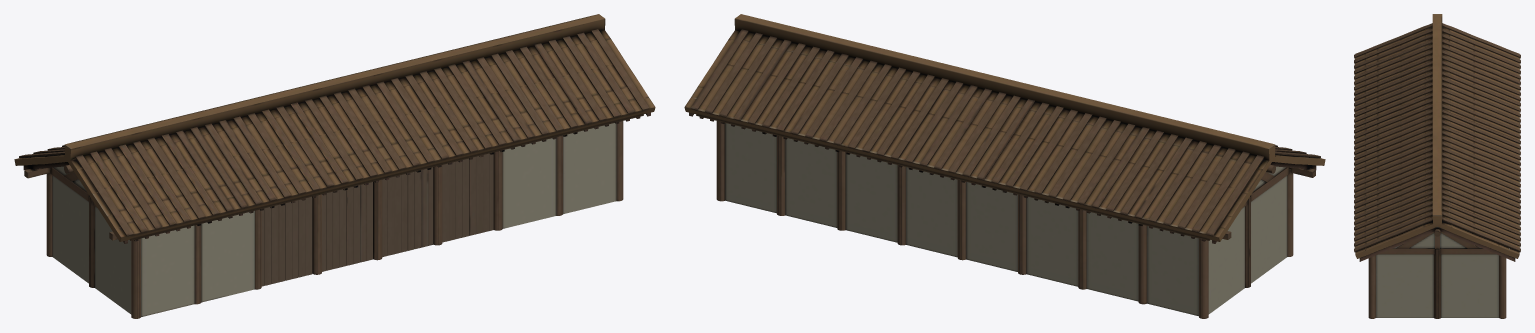
File: mukaiya.glb
3 views of the same model, side by side, from view 1: azimuth 30°, elevation 25°; view 2: azimuth 150°, elevation 25°; view 3: azimuth 270°, elevation 25° (orthographic). The views are drawn at different scales.
Visible parts, largest first — view 1: mukaiya; view 2: mukaiya; view 3: mukaiya.
Part boxes in pixels (x1,y1,x2,y2): mukaiya: [14, 14, 655, 318]; mukaiya: [684, 14, 1325, 318]; mukaiya: [1354, 14, 1520, 318].
Bounding box in the file's own units: 18.8 × 4.86 × 6.53.
1 material, 1 textured.
